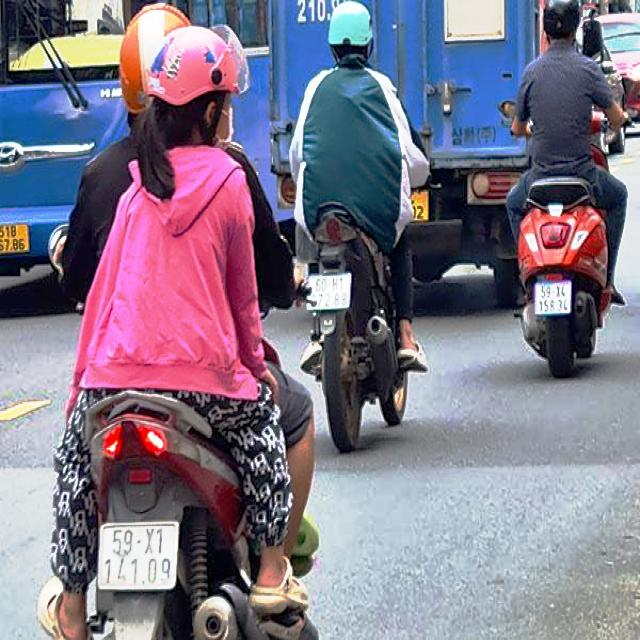license_plate: (99, 522, 180, 591), (309, 275, 352, 311), (536, 280, 573, 316)
